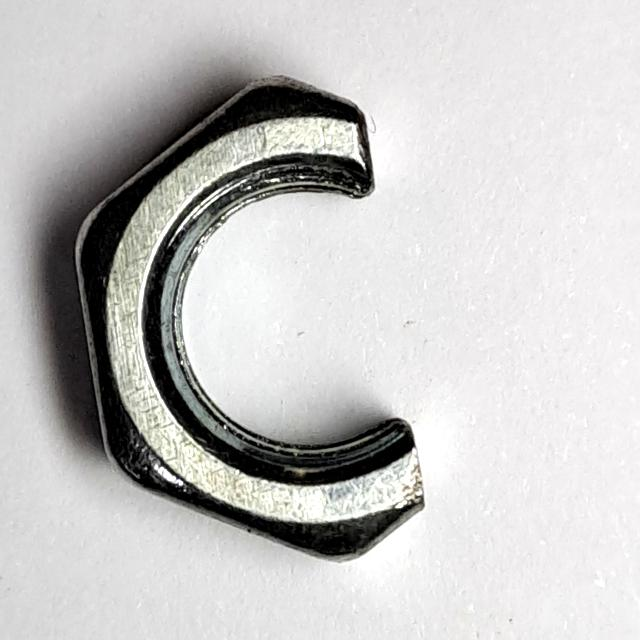Fracture: (66, 66, 478, 581)
